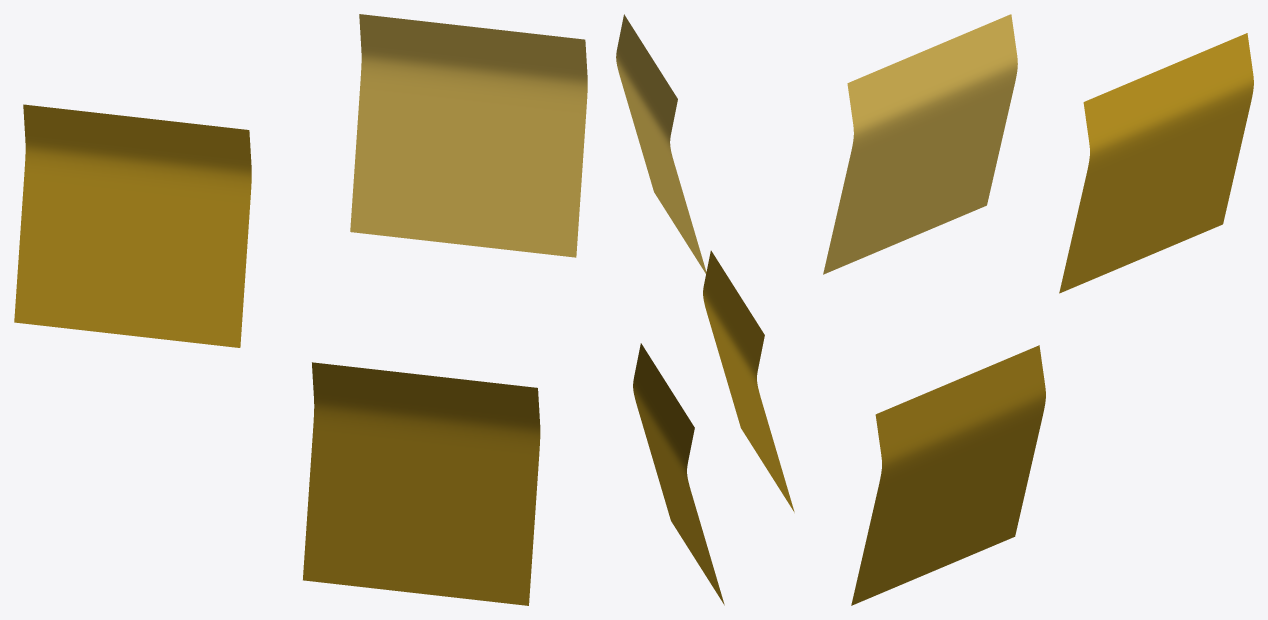
File: Stickies.fbx
The picture shows the model from 3 angles, left to right: view 1: azimuth 30°, elevation 25°; view 2: azimuth 150°, elevation 25°; view 3: azimuth 270°, elevation 25°; orthographic projection. The views are drawn at different scales.
Parts seen in each view (by area): view 1: pPlane4, pPlane3, pPlane5; view 2: pPlane4, pPlane5, pPlane3; view 3: pPlane4, pPlane3, pPlane5.
Part boxes in pixels (x1=…): pPlane4: x1=350, y1=14, x2=587, y2=257; pPlane3: x1=14, y1=104, x2=251, y2=347; pPlane5: x1=303, y1=362, x2=540, y2=605; pPlane4: x1=616, y1=14, x2=706, y2=273; pPlane5: x1=633, y1=343, x2=724, y2=605; pPlane3: x1=703, y1=250, x2=794, y2=512; pPlane4: x1=823, y1=14, x2=1017, y2=274; pPlane3: x1=1059, y1=33, x2=1253, y2=293; pPlane5: x1=851, y1=345, x2=1045, y2=605.
Size of the model in its own units: 37.55 by 51.39 by 36.55.
